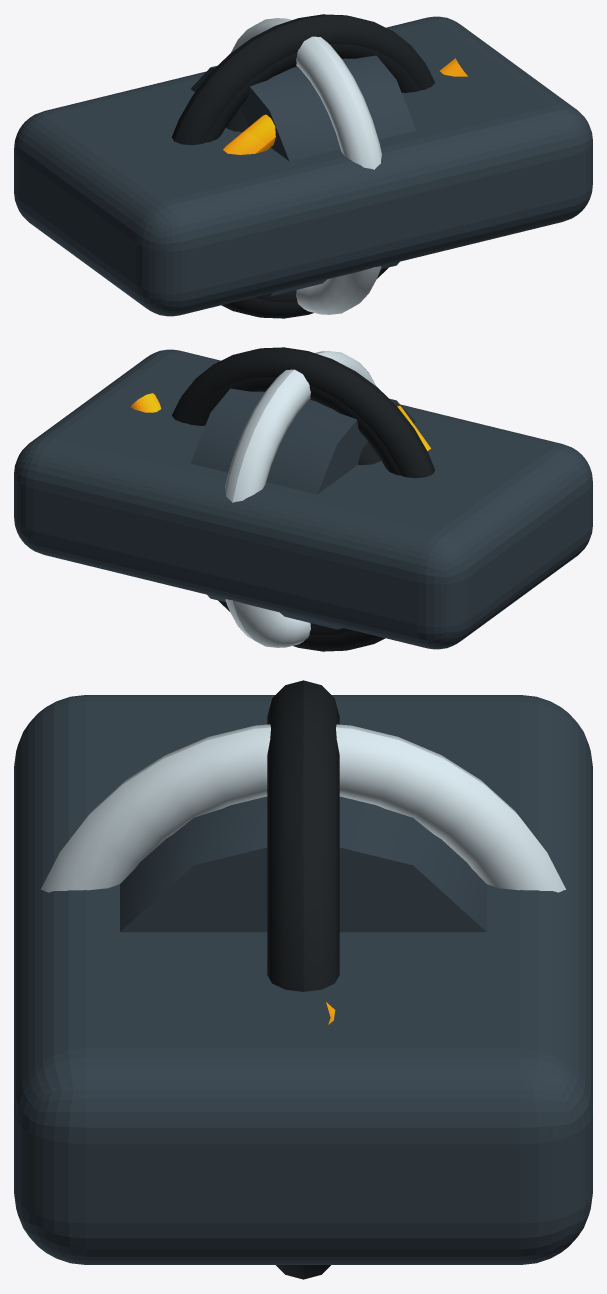
File: body_15.glb
The picture shows the model from 3 angles, top to bottom: view 1: azimuth 30°, elevation 25°; view 2: azimuth 150°, elevation 25°; view 3: azimuth 270°, elevation 25°; orthographic projection. The views are drawn at different scales.
Visible parts, largest first — view 1: asset_mesh__body_0764__reference_body, asset_mesh__body_0800__service_element, asset_mesh__body_0790__rotor, asset_mesh__body_0790__functional_ring, asset_mesh__body_0799__service_element, asset_mesh__body_0811__fluid_path; view 2: asset_mesh__body_0764__reference_body, asset_mesh__body_0800__service_element, asset_mesh__body_0790__rotor, asset_mesh__body_0790__functional_ring, asset_mesh__body_0799__service_element, asset_mesh__body_0811__fluid_path; view 3: asset_mesh__body_0764__reference_body, asset_mesh__body_0790__functional_ring, asset_mesh__body_0790__rotor, asset_mesh__body_0800__service_element.
Part boxes in pixels (<box>): asset_mesh__body_0764__reference_body: <box>14,16,592,316</box>; asset_mesh__body_0800__service_element: <box>172,14,434,318</box>; asset_mesh__body_0790__rotor: <box>191,55,416,296</box>; asset_mesh__body_0790__functional_ring: <box>230,18,381,314</box>; asset_mesh__body_0799__service_element: <box>205,44,419,302</box>; asset_mesh__body_0811__fluid_path: <box>223,58,467,154</box>; asset_mesh__body_0764__reference_body: <box>14,349,592,649</box>; asset_mesh__body_0800__service_element: <box>172,347,434,651</box>; asset_mesh__body_0790__rotor: <box>190,388,415,629</box>; asset_mesh__body_0790__functional_ring: <box>225,351,376,647</box>; asset_mesh__body_0799__service_element: <box>187,377,401,635</box>; asset_mesh__body_0811__fluid_path: <box>131,393,430,450</box>; asset_mesh__body_0764__reference_body: <box>14,695,592,1264</box>; asset_mesh__body_0790__functional_ring: <box>40,724,566,892</box>; asset_mesh__body_0790__rotor: <box>120,796,486,932</box>; asset_mesh__body_0800__service_element: <box>267,680,339,1279</box>.
Size of the model in its own units: 1.47 by 0.9164 by 0.882.
